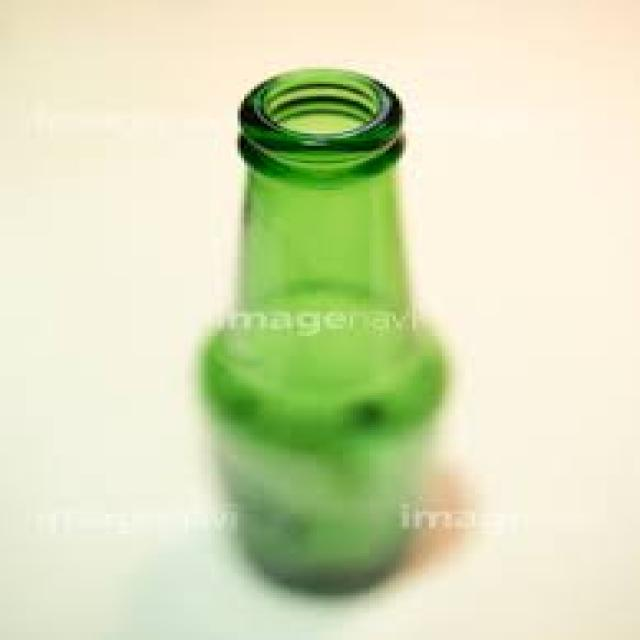glass: (198, 64, 445, 593)
